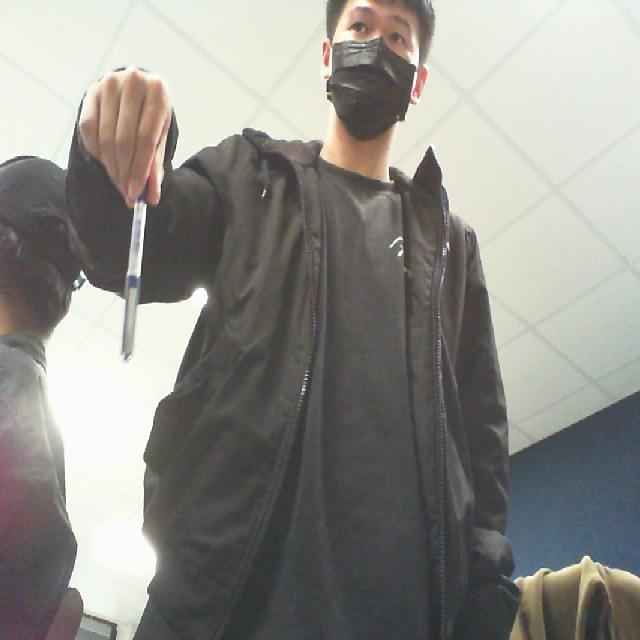Pen: (117, 189, 154, 380)
